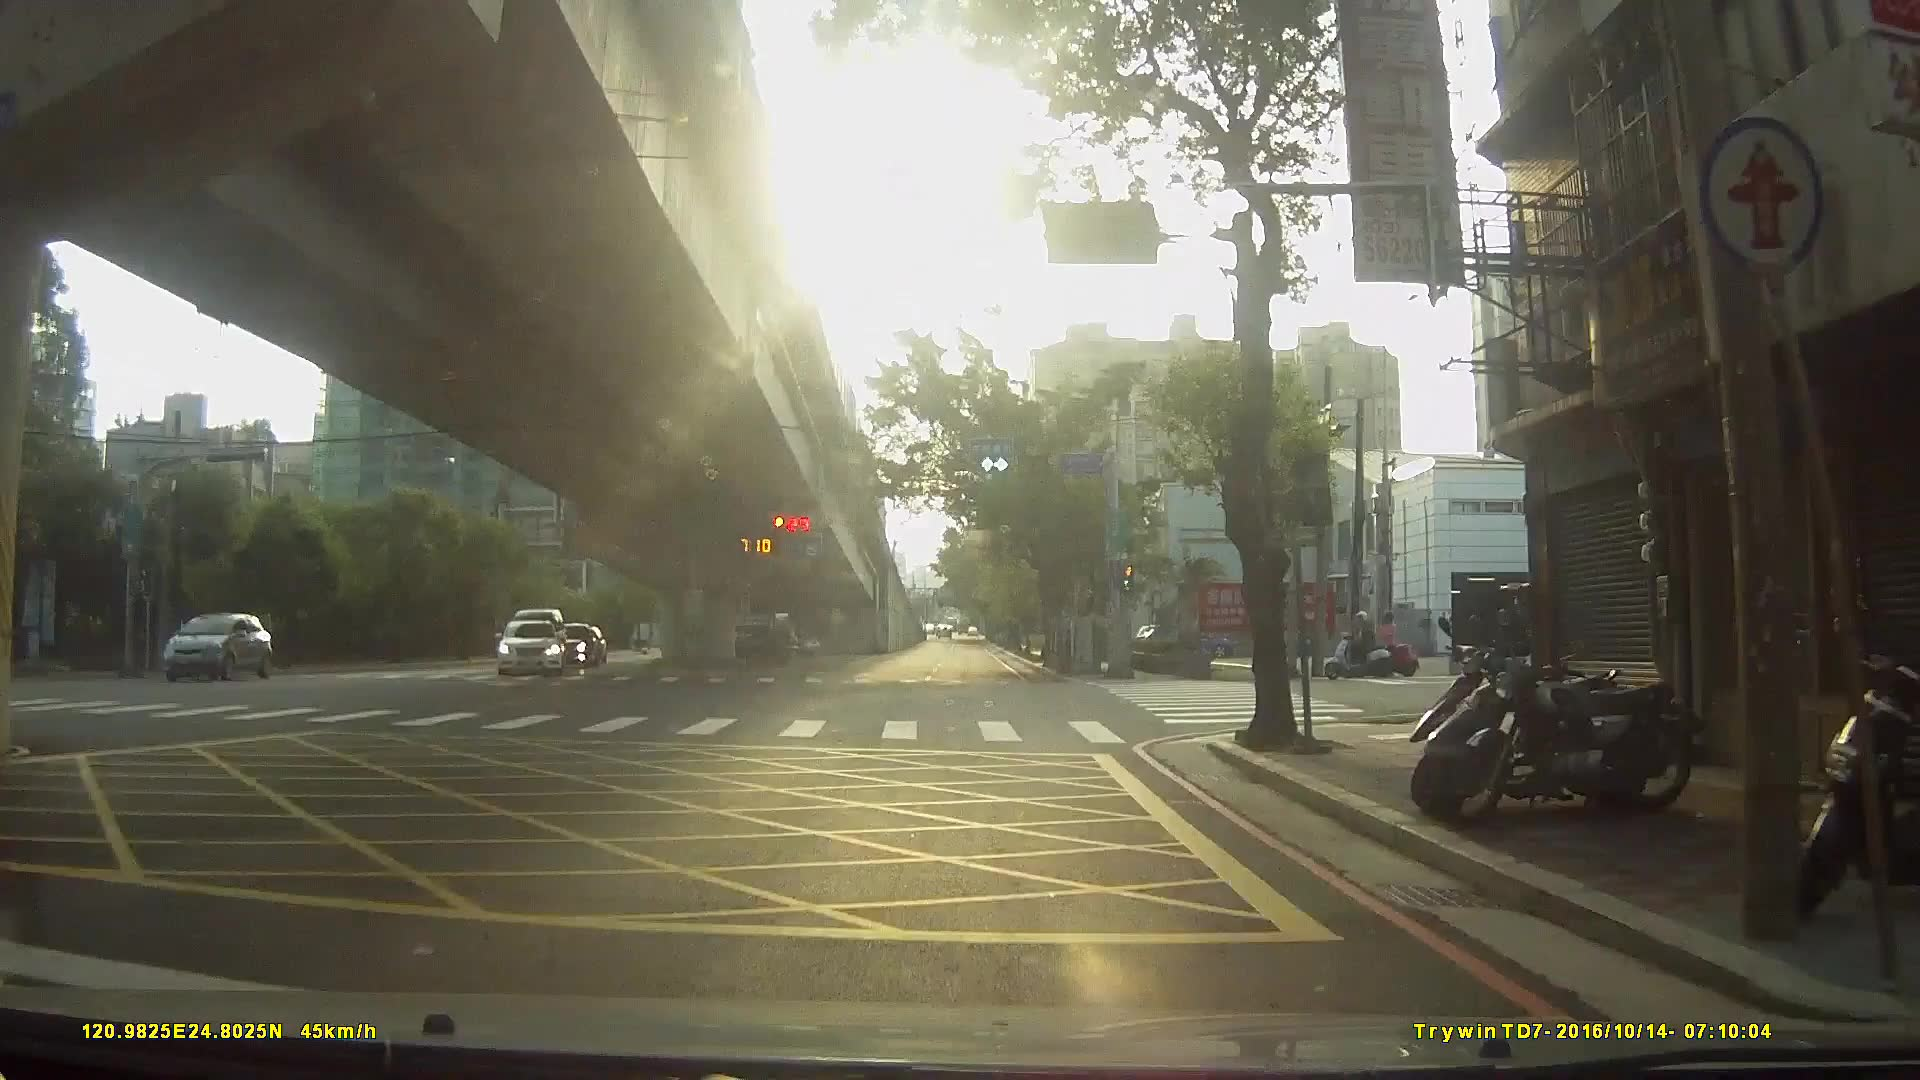rider: (1325, 610, 1394, 679)
vehicle: (144, 609, 275, 680), (489, 617, 562, 677), (709, 618, 796, 663), (541, 621, 596, 668)
